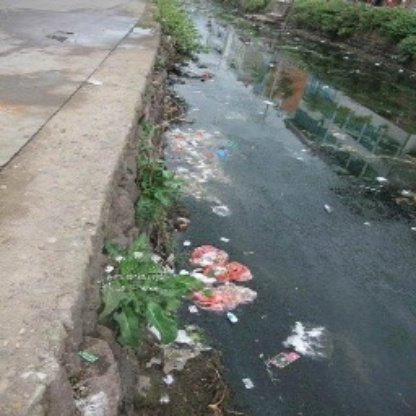plastic-bag: (192, 283, 263, 314), (192, 242, 230, 270)
